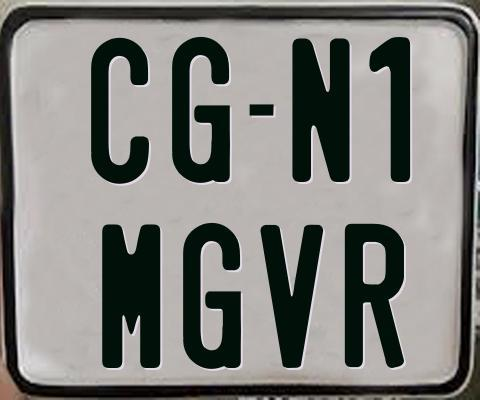1: (368, 35, 409, 186)
C: (91, 36, 153, 187)
G: (181, 221, 245, 367), (169, 35, 227, 187)
M: (101, 221, 160, 367)
N: (292, 38, 353, 185)
R: (344, 224, 405, 368)
V: (258, 225, 324, 374)
